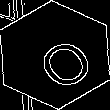O_NW: (19, 22, 91, 88)
